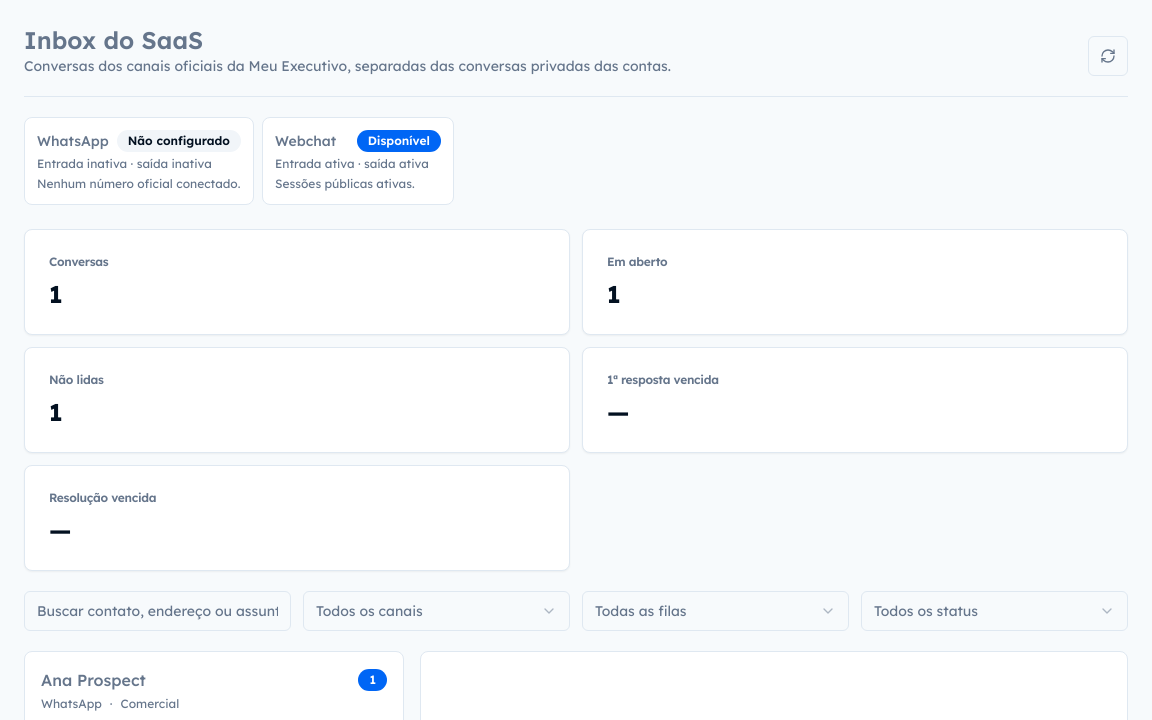
Test: BlackboxInbox › não apresenta mutações a um perfil com acesso somente de leitura
This screenshot has width=1152, height=720.
Click the text "Ana Prospect": {"x": 93, "y": 680} [41,668,146,692]
(page scrolled)
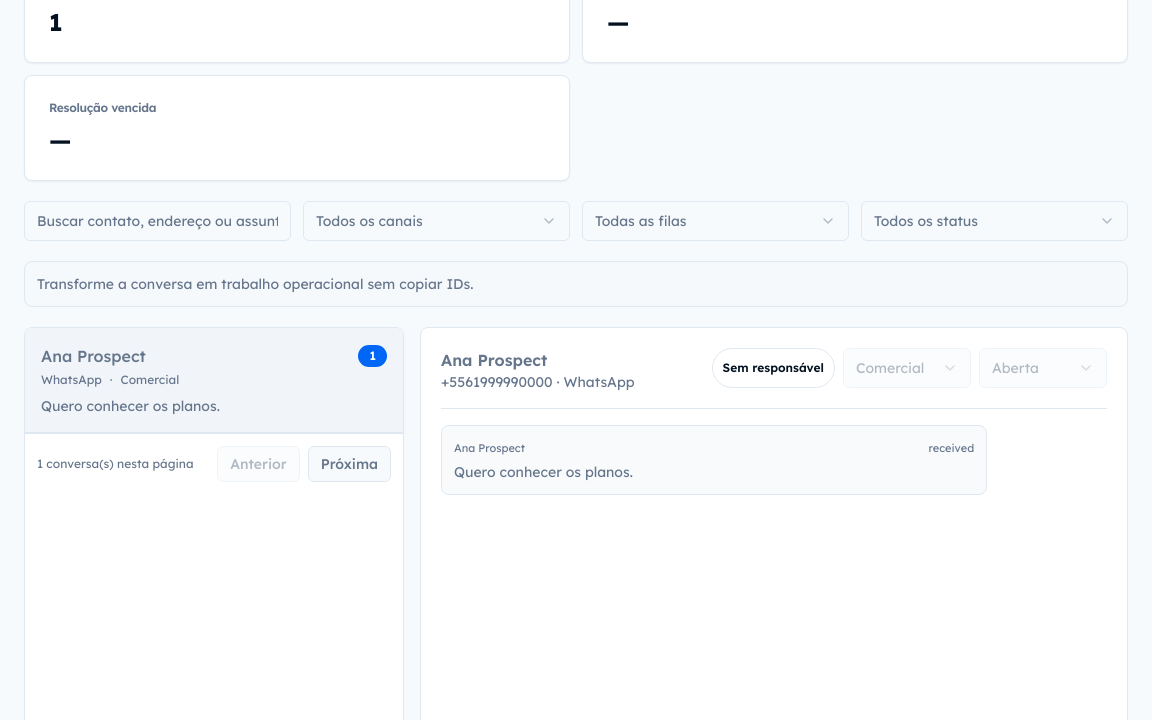
Expected: the heading "Ana Prospect" is shown, [441,350,547,370]
